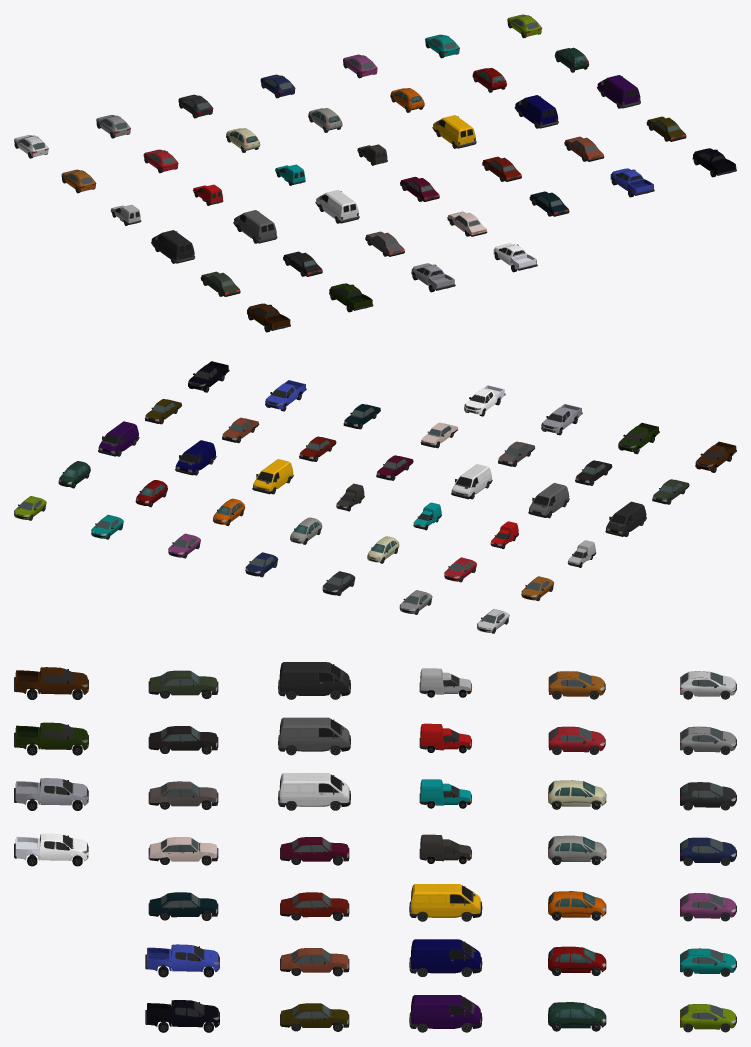
The model's file is traffic_cars.glb.
The picture shows the model from 3 angles, top to bottom: view 1: azimuth 30°, elevation 25°; view 2: azimuth 150°, elevation 25°; view 3: azimuth 270°, elevation 25°; orthographic projection. The views are drawn at different scales.
Visible parts, largest first — view 1: Body (×35); view 2: Body (×39); view 3: Body (×39).
Part boxes in pixels (<box>): Body (×35): <box>14,14,736,330</box>; Body (×39): <box>14,361,736,632</box>; Body (×39): <box>14,662,736,1029</box>.
Size of the model in its own units: 50.11 by 1.88 by 44.07.
55 materials, 46 textured.
